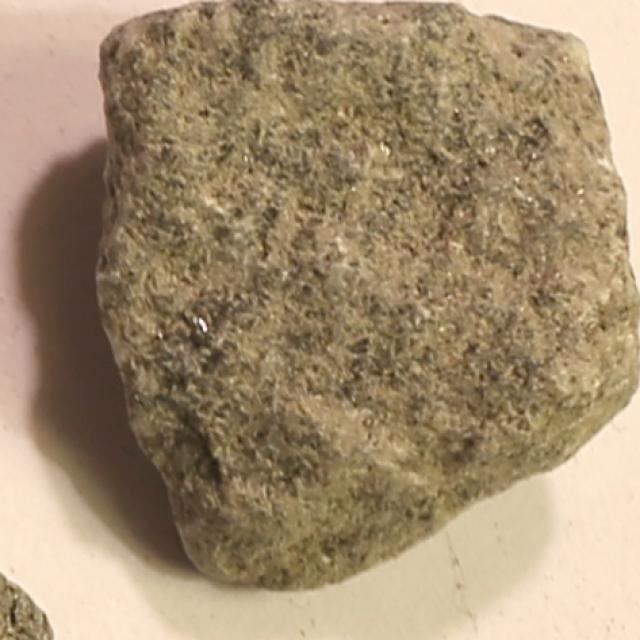stone: (94, 0, 640, 596)
